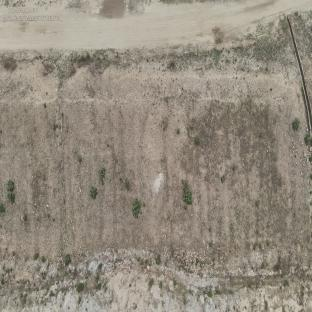slope_drain: (287, 16, 312, 131)
